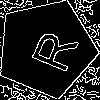R: (21, 23, 79, 75)
